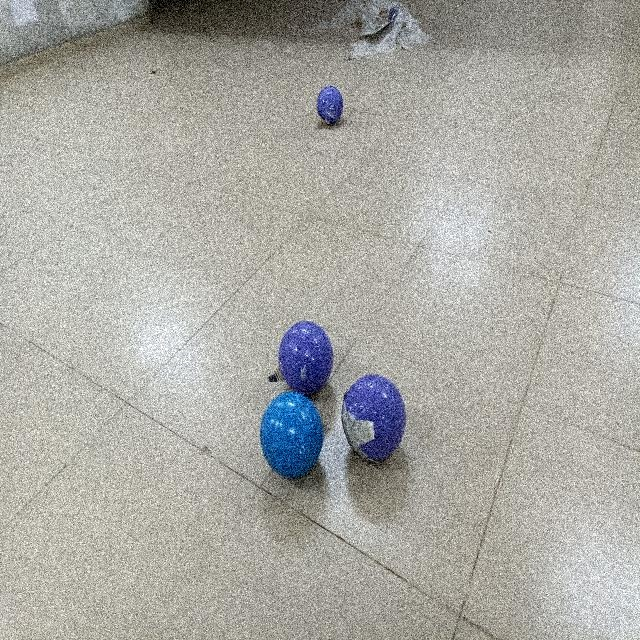blue_ball: (258, 377, 329, 487)
purple_ball: (339, 368, 414, 478), (278, 312, 334, 397), (313, 82, 343, 129)
